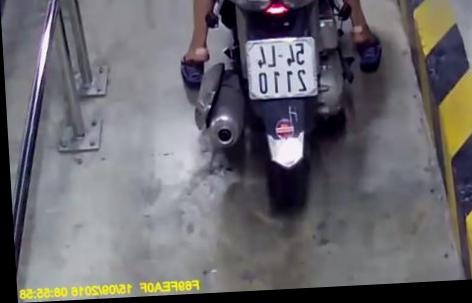License_Plate: (236, 30, 325, 106)
